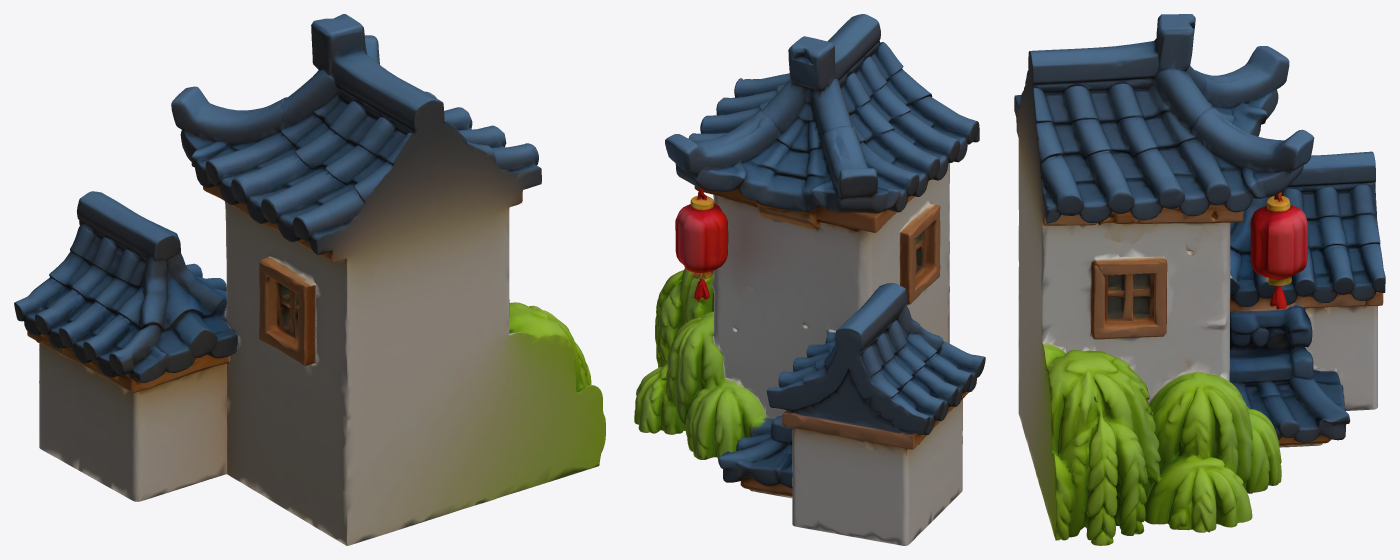
The model's file is house.glb.
3 views of the same model, side by side, from view 1: azimuth 30°, elevation 25°; view 2: azimuth 150°, elevation 25°; view 3: azimuth 270°, elevation 25° (orthographic). The views are drawn at different scales.
Parts seen in each view (by area): view 1: tripo_node_3e3647c5-2072-4d77-a23a-7685bdc73757; view 2: tripo_node_3e3647c5-2072-4d77-a23a-7685bdc73757; view 3: tripo_node_3e3647c5-2072-4d77-a23a-7685bdc73757.
Part boxes in pixels (x1,y1,x2,y2): tripo_node_3e3647c5-2072-4d77-a23a-7685bdc73757: [14, 14, 605, 545]; tripo_node_3e3647c5-2072-4d77-a23a-7685bdc73757: [634, 14, 985, 545]; tripo_node_3e3647c5-2072-4d77-a23a-7685bdc73757: [1014, 14, 1385, 545].
Size of the model in its own units: 1.03 by 1 by 0.7884.
Materials: 1 (1 with a texture image).
